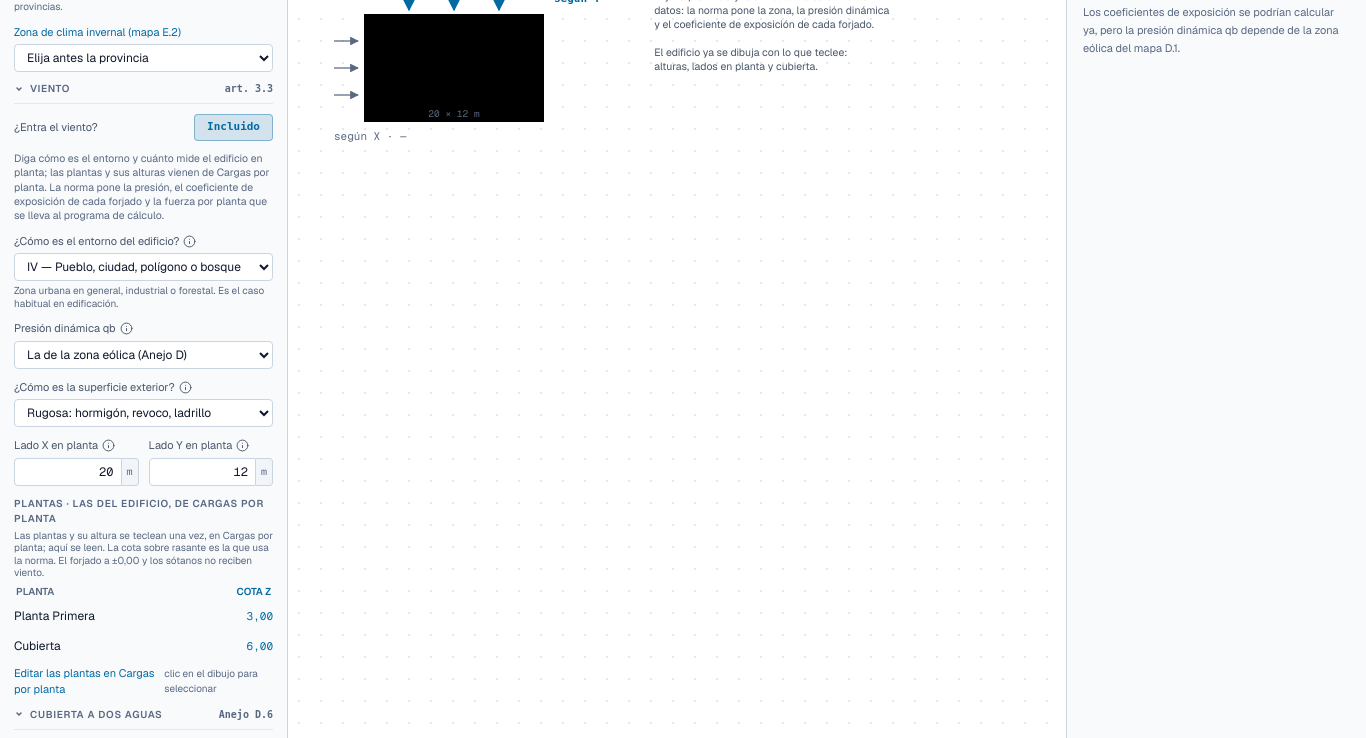
Test case: Viento y nieve — un solo sistema de unidades › tampoco en las entradas que sólo aparecen al pedir «un valor propio»
The image size is (1366, 738).
(page scrolled)
Select "Un valor propio" in the dropdown named "Presión dinámica" at (144, 355), box [14,341,273,369]
(page scrolled)
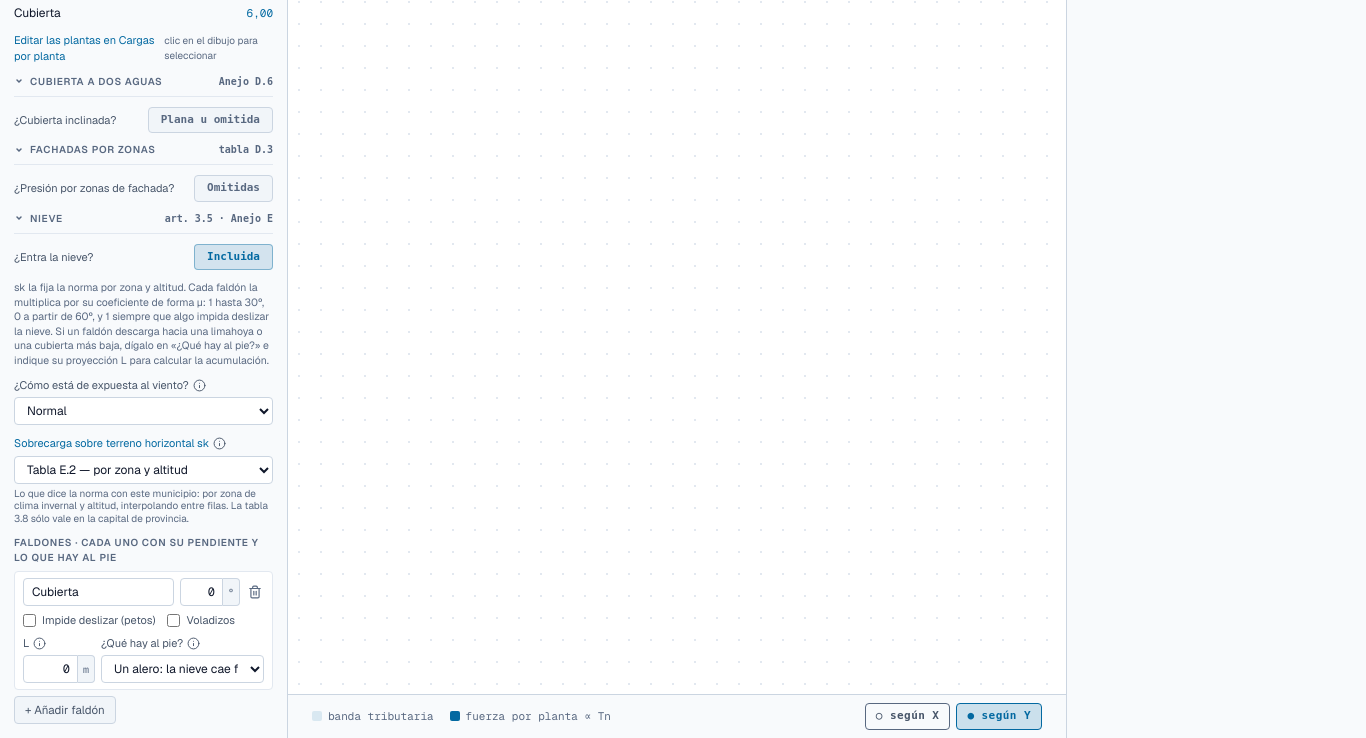
Select "Un valor propio (ordenanza, datos empíricos)" in the dropdown named "Origen de sk" at (144, 470), box [14,456,273,484]
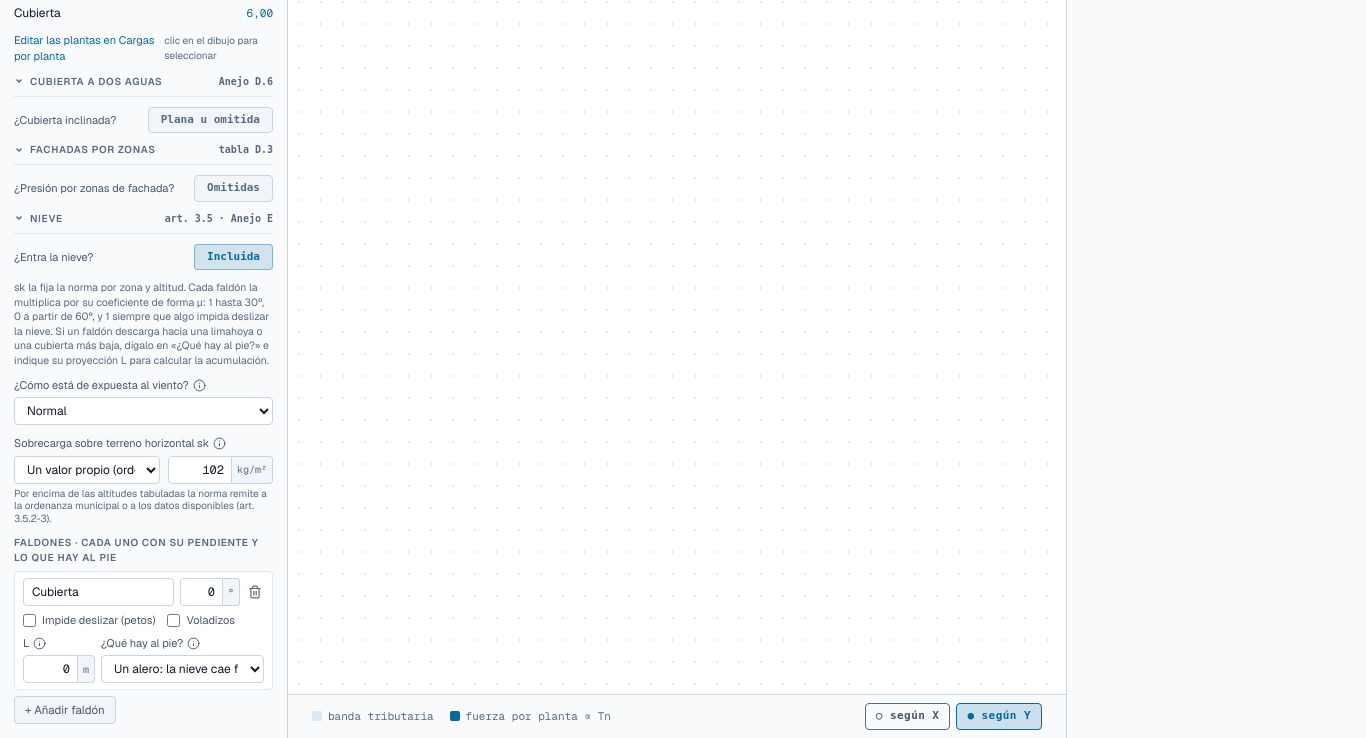
Expected: the field named "sk tecleada" is shown, [168,456,232,484]
